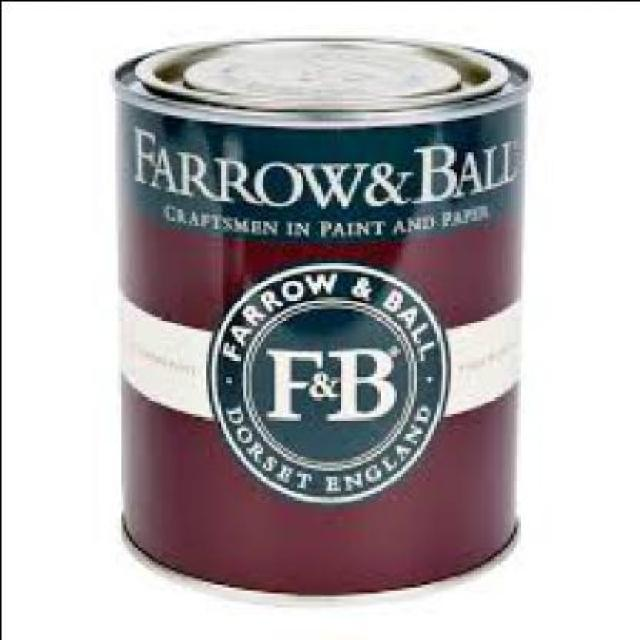METAL: (108, 31, 529, 592)
